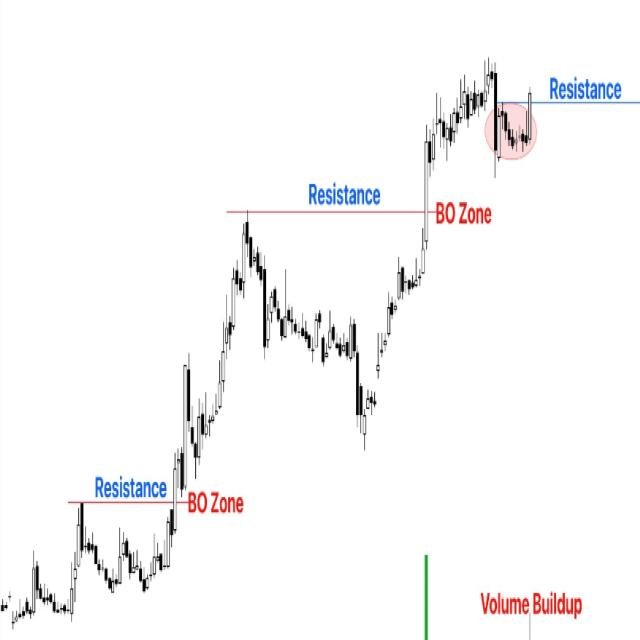Channel-down: (202, 217, 394, 475)
